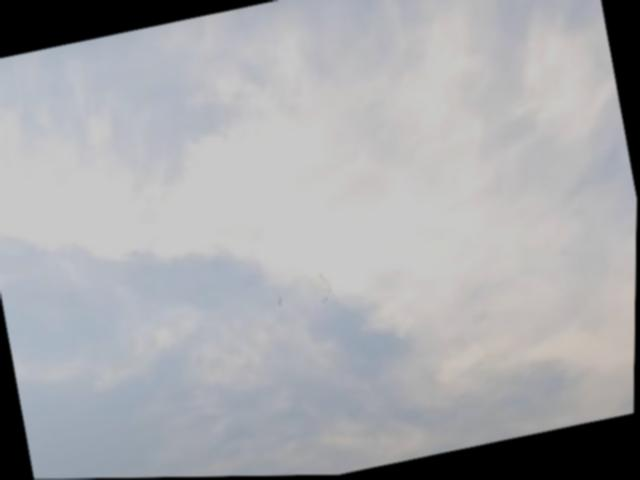iha: (276, 296, 284, 307)
